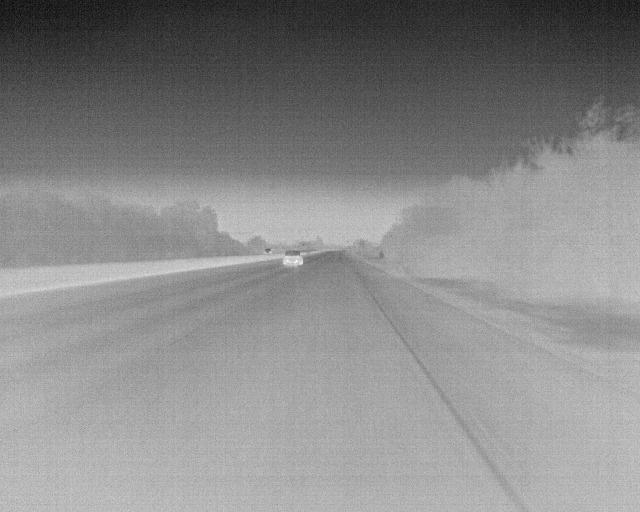car: (282, 248, 305, 269)
